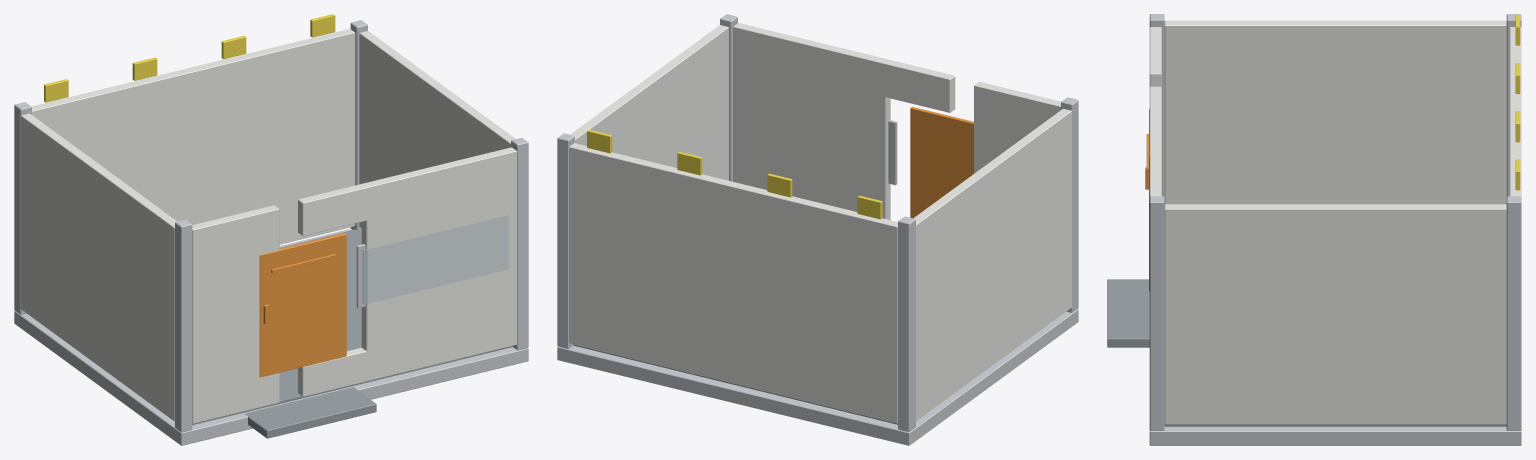
File: offshore-oil-rig-and-platform-accommodation-module-blo-7e0bcd5d__37039.glb
3 views of the same model, side by side, from view 1: azimuth 30°, elevation 25°; view 2: azimuth 150°, elevation 25°; view 3: azimuth 270°, elevation 25° (orthographic). The views are drawn at different scales.
Parts seen in each view (by area): view 1: accommodation-module-block, cabin-door; view 2: accommodation-module-block, cabin-door; view 3: accommodation-module-block.
Boxes of the visible parts, x1=… form: accommodation-module-block: x1=14, y1=14, x2=528, y2=445; cabin-door: x1=259, y1=233, x2=346, y2=377; accommodation-module-block: x1=557, y1=14, x2=1078, y2=445; cabin-door: x1=910, y1=106, x2=973, y2=218; accommodation-module-block: x1=1107, y1=14, x2=1521, y2=445.
Bounding box in the file's own units: 6 × 3.84 × 5.57.
